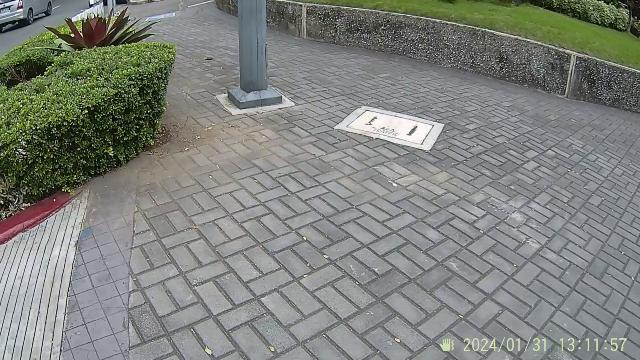utility_post: (232, 0, 278, 104)
